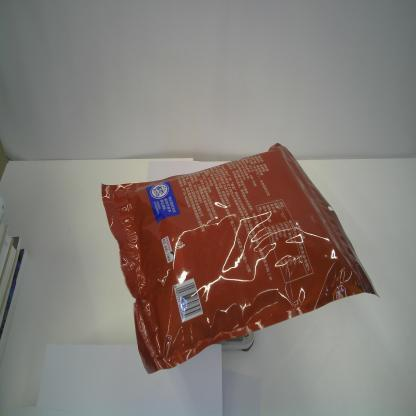Dried Food: (100, 142, 380, 375)
